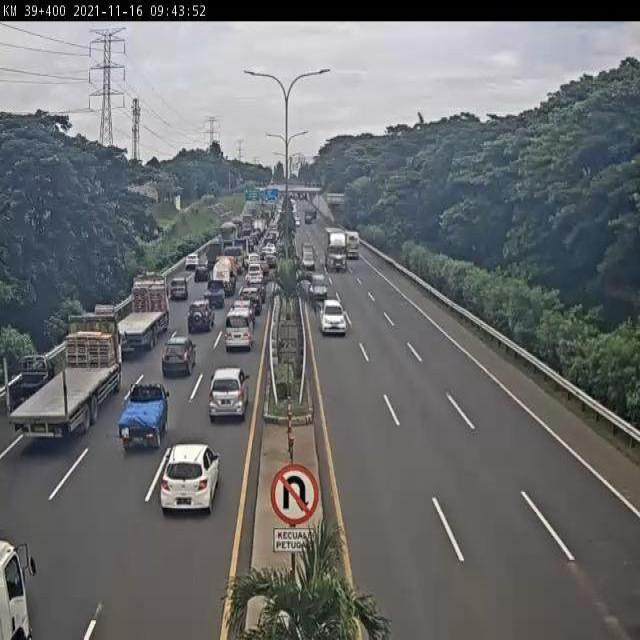car: (160, 446, 221, 518), (119, 384, 170, 451), (210, 368, 249, 417), (162, 336, 195, 376), (223, 310, 252, 350), (320, 296, 348, 336), (188, 298, 215, 334), (308, 273, 329, 303), (170, 275, 190, 301), (205, 279, 225, 305)
truck-l-: (2, 314, 123, 442), (116, 270, 170, 350)
